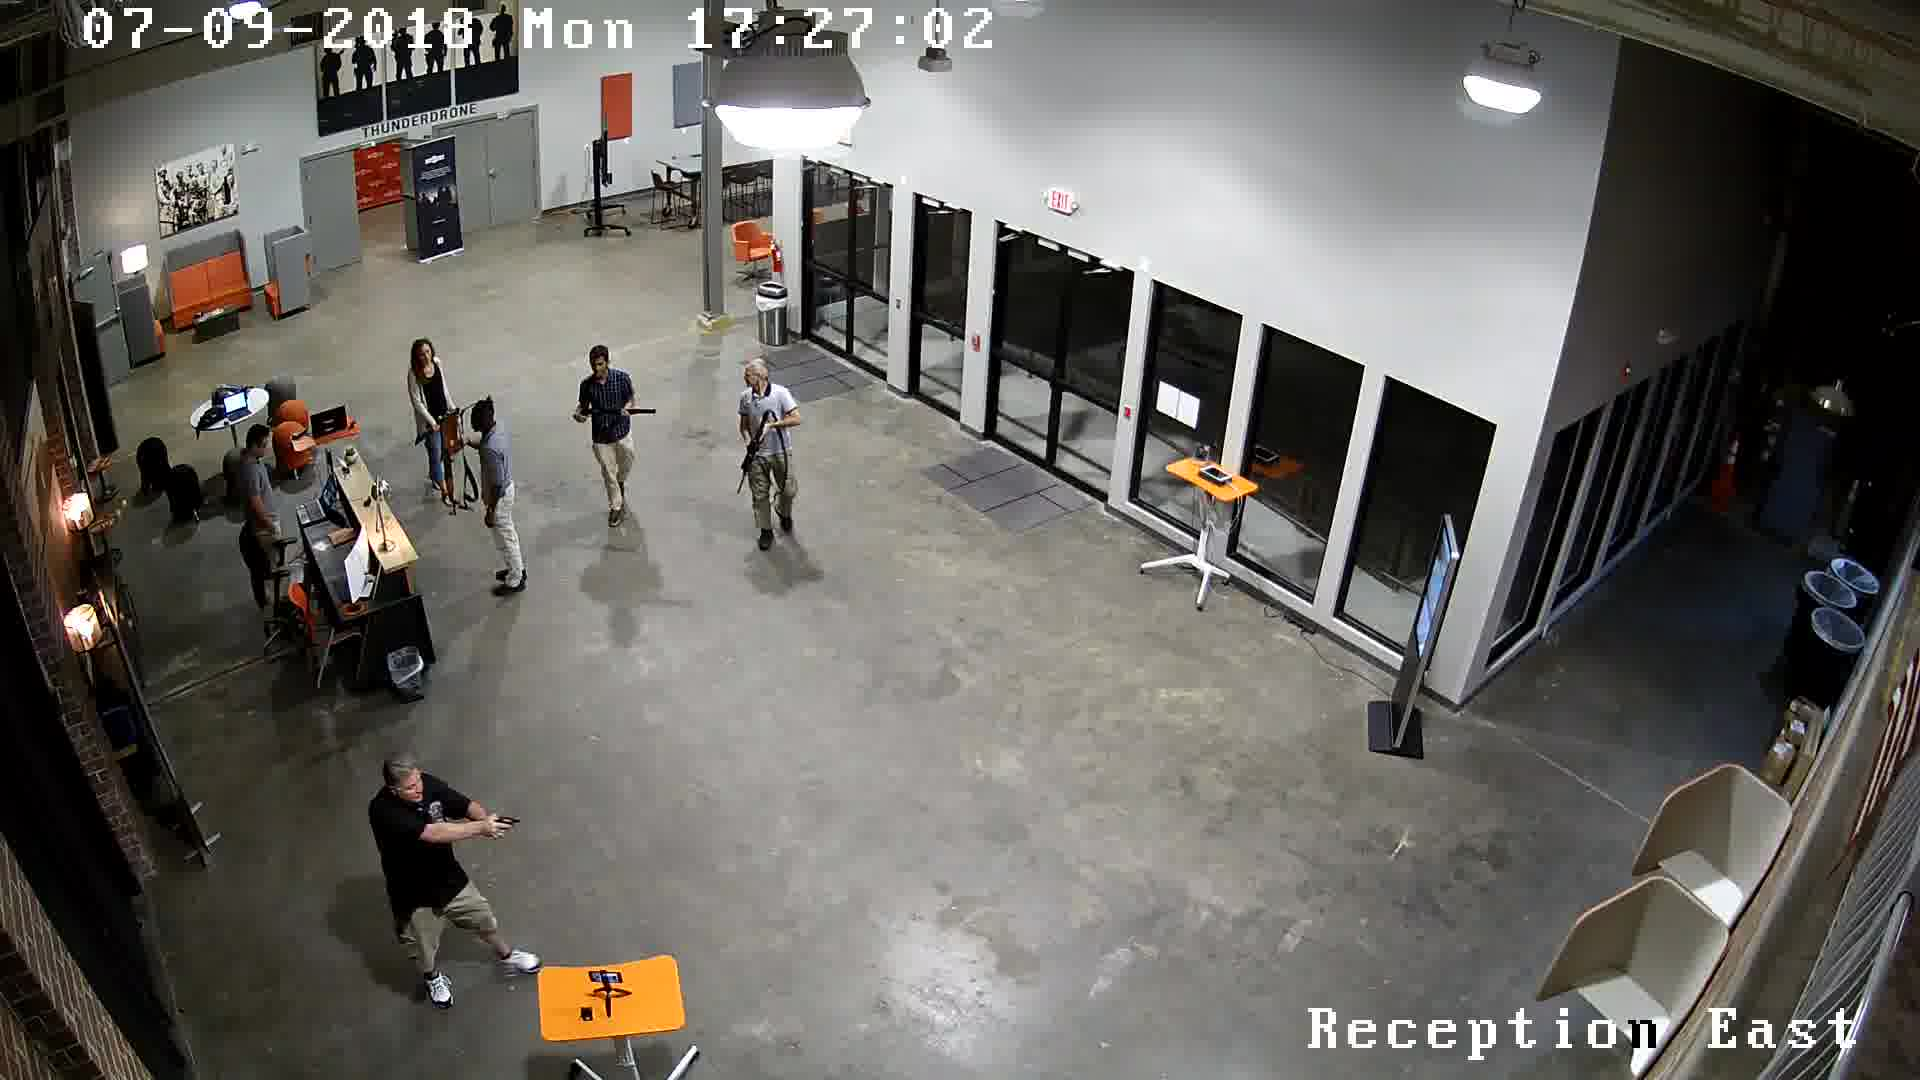pistol: (479, 808, 531, 847)
